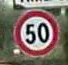limite 50: (11, 8, 61, 56)
